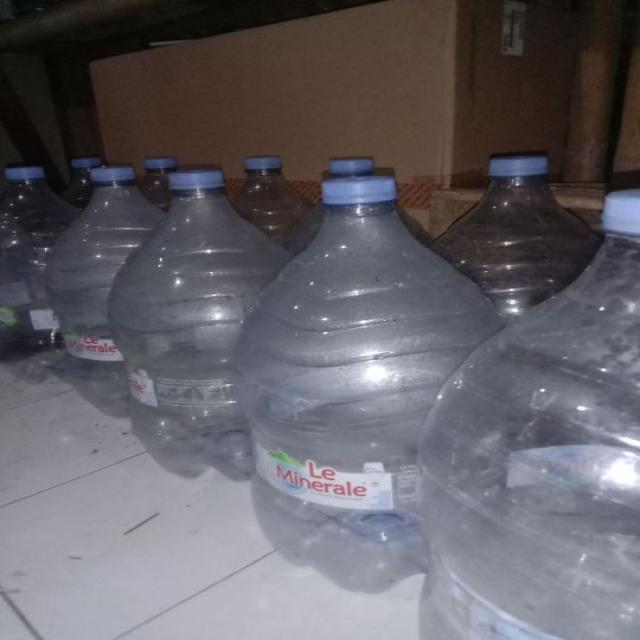Galon: (4, 118, 640, 635)
